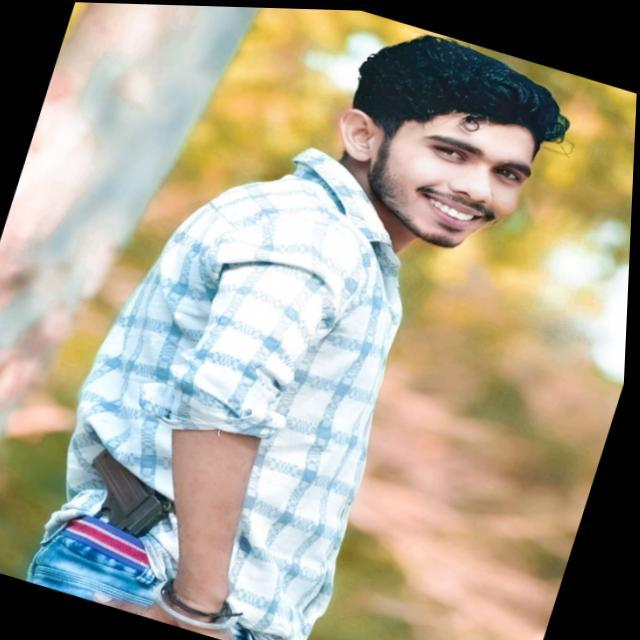weapon: (44, 434, 198, 596)
